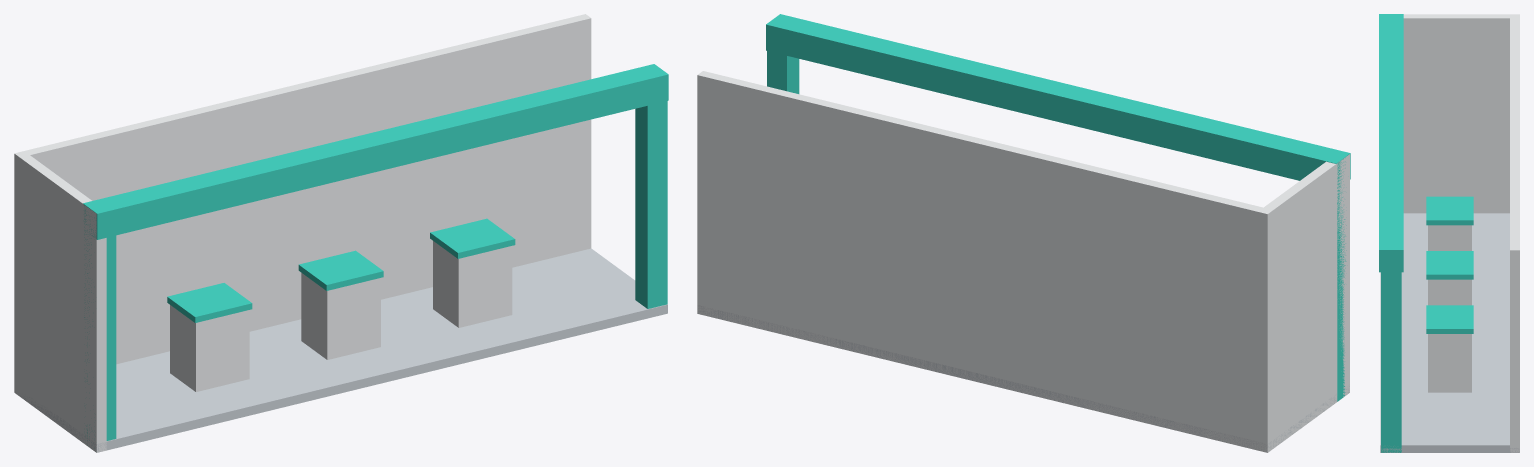
The picture shows the model from 3 angles, left to right: view 1: azimuth 30°, elevation 25°; view 2: azimuth 150°, elevation 25°; view 3: azimuth 270°, elevation 25°; orthographic projection. The views are drawn at different scales.
Visible parts, largest first — view 1: Exhibition Booth Concept; view 2: Exhibition Booth Concept; view 3: Exhibition Booth Concept.
Boxes of the visible parts, x1,y1,x2,y2 form: Exhibition Booth Concept: (14, 14, 668, 452); Exhibition Booth Concept: (697, 14, 1350, 452); Exhibition Booth Concept: (1379, 14, 1519, 452).
Bounding box in the file's own units: 8 × 3.2 × 2.01.
